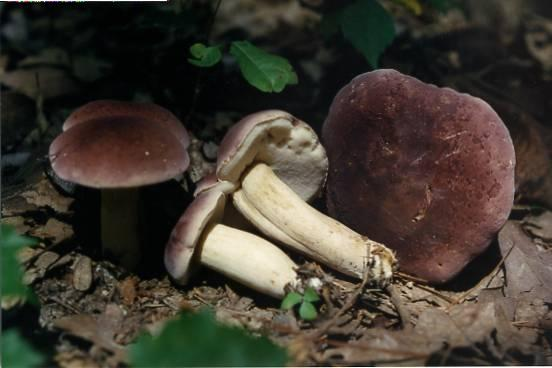poisonous_mushroom: (149, 108, 401, 292), (320, 67, 517, 284), (44, 98, 191, 267)
